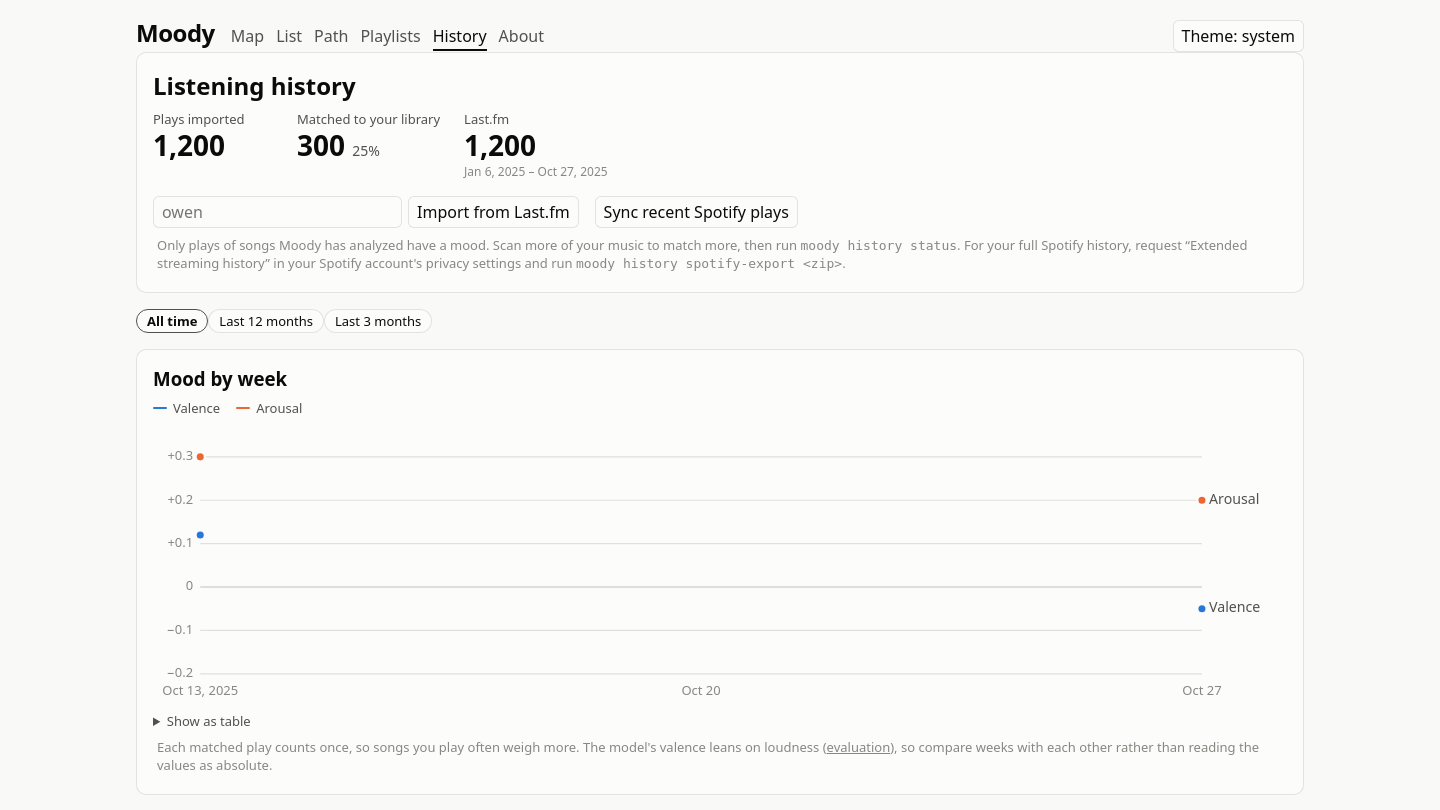
Scenario: import errors are shown
This screenshot has width=1440, height=810.
Type "nobody" into the field named "Last.fm user" at coordinates (278, 212), box [153,196,402,228]
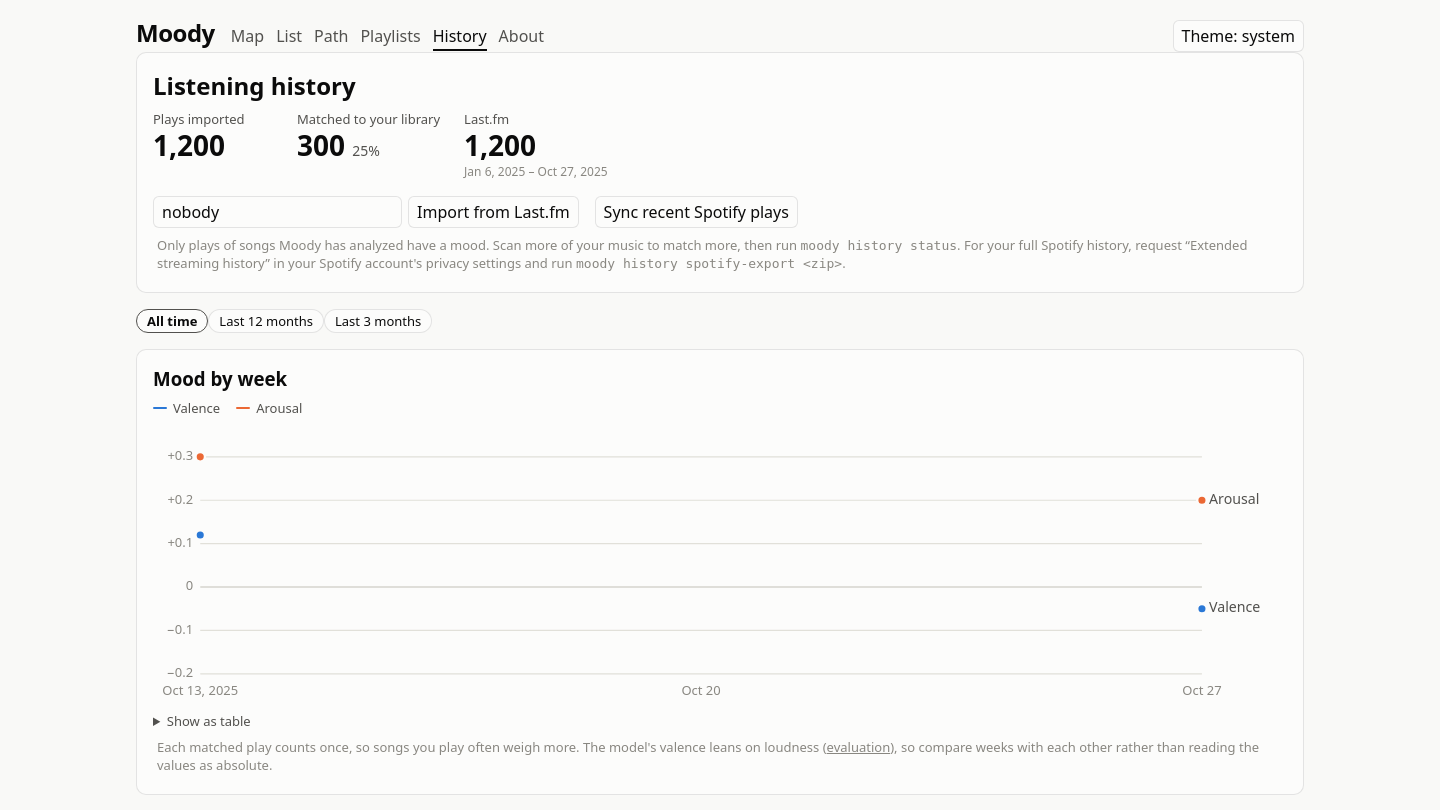
Click the button "Import from Last.fm" at coordinates (493, 212), box [408,196,579,228]
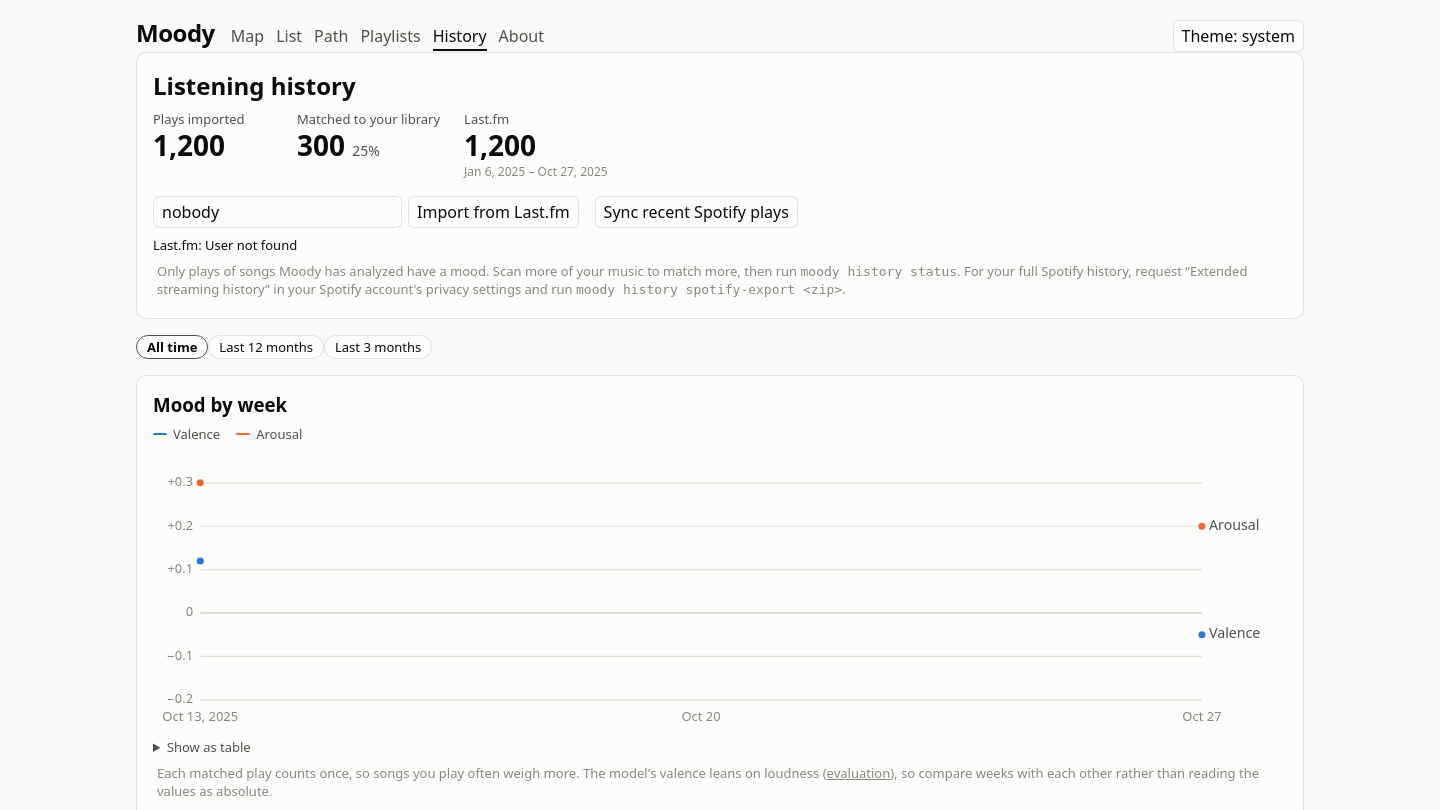
Now the message shows "User not found", box [153,236,297,254]
